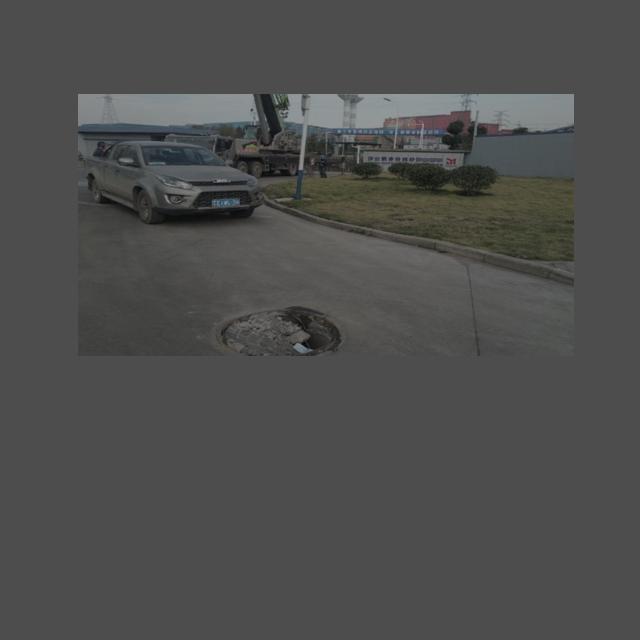broke: (219, 308, 340, 356)
